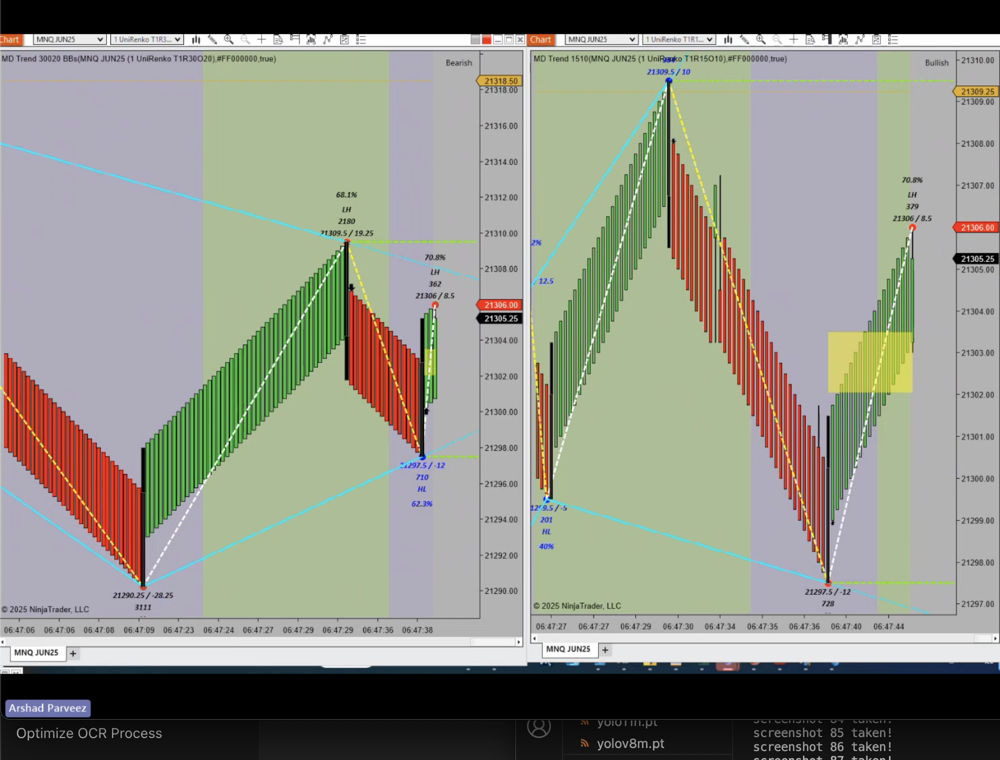HL: (410, 480, 434, 499), (537, 523, 557, 544)
LH: (336, 202, 363, 220), (424, 264, 449, 282), (904, 187, 926, 202)
